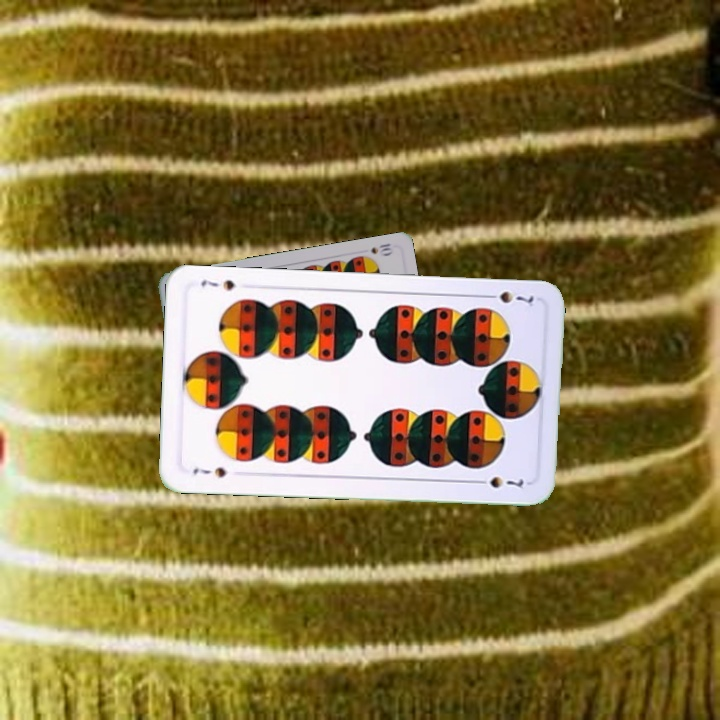S10: (366, 239, 395, 258)
S7: (480, 287, 536, 309), (189, 463, 229, 480)
